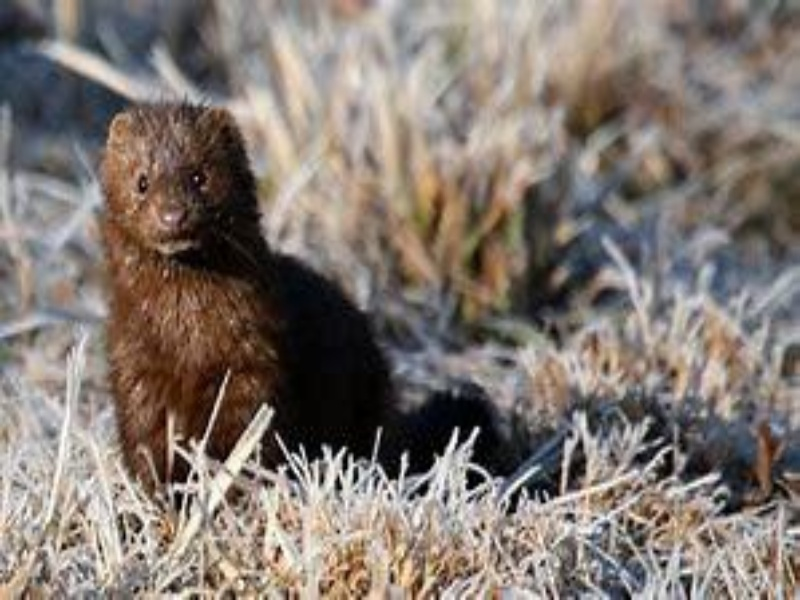minkish: (99, 95, 520, 505)
